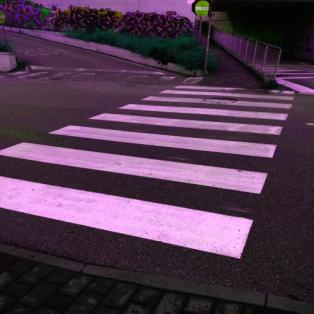Paso de Cebra: (0, 123, 290, 197), (139, 88, 299, 111)
